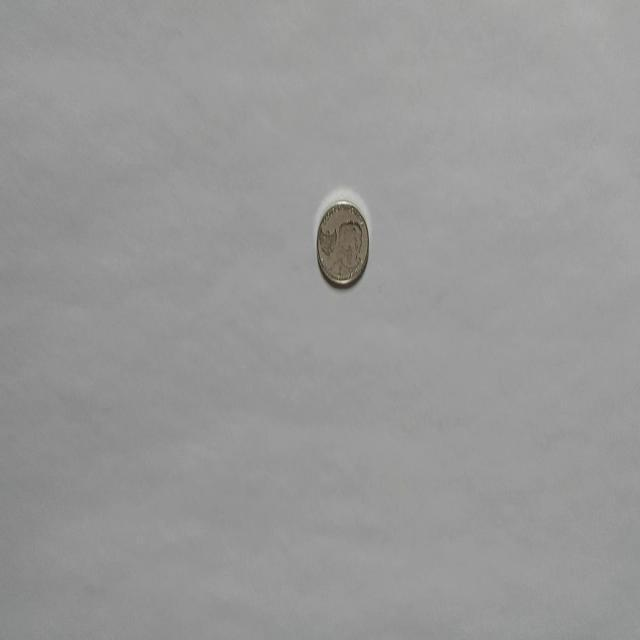seratus rupiah: (315, 198, 369, 288)
